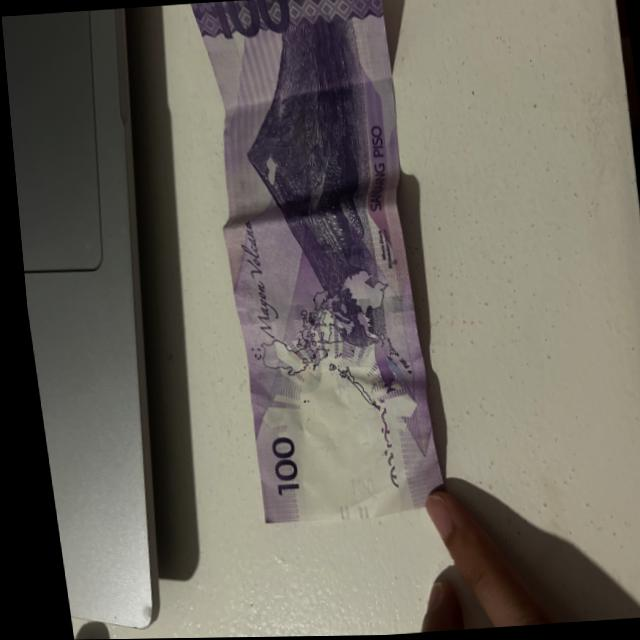100_whale: (304, 136, 368, 273)
100_whale_watermark: (363, 332, 392, 397)
value_watermark: (335, 471, 371, 504)
